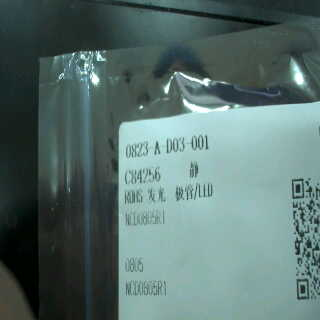LED: (143, 176, 224, 208)
